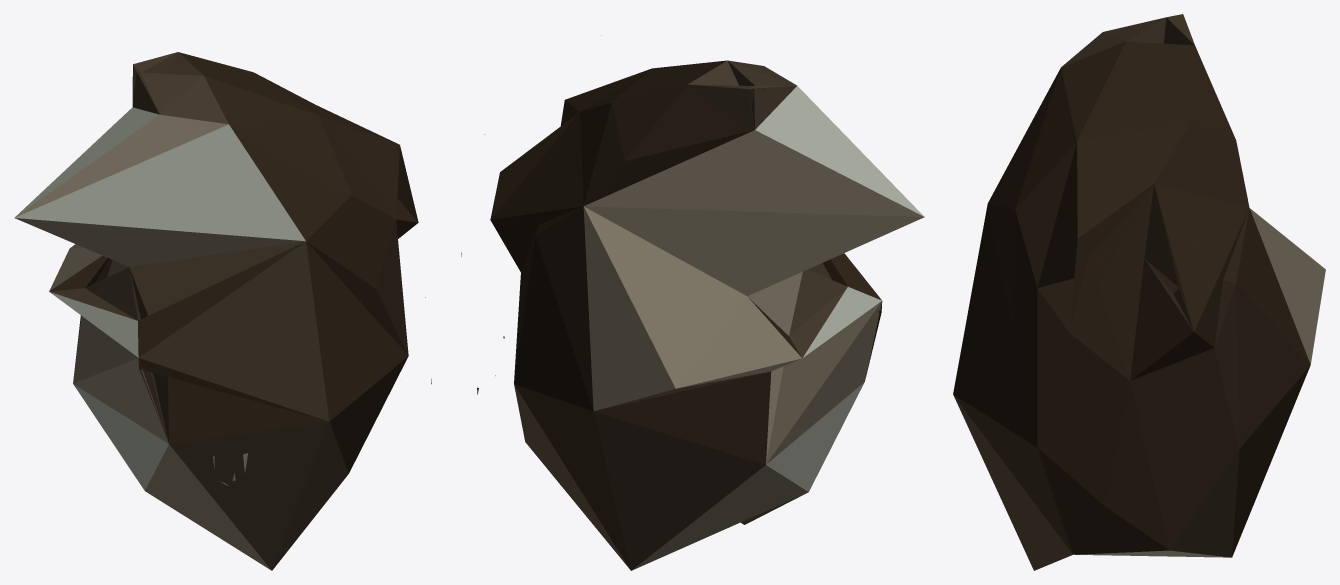
The picture shows the model from 3 angles, left to right: view 1: azimuth 30°, elevation 25°; view 2: azimuth 150°, elevation 25°; view 3: azimuth 270°, elevation 25°; orthographic projection. The views are drawn at different scales.
Visible parts, largest first — view 1: lion-200; view 2: lion-200; view 3: lion-200.
Part boxes in pixels (left/top/right/bottom): lion-200: left=14, top=52, right=431, bottom=570; lion-200: left=461, top=35, right=924, bottom=570; lion-200: left=953, top=14, right=1325, bottom=570.
Size of the model in its own units: 0.8401 by 0.9889 by 0.6213.
